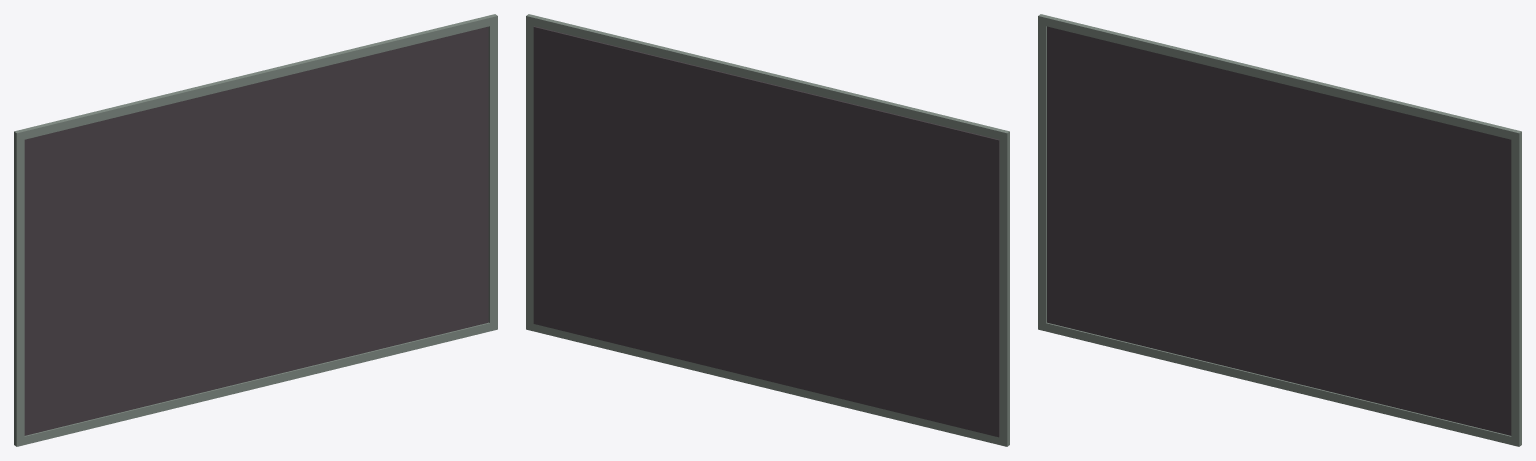
Rendered from SM_blackboard_project.fbx.
3 views of the same model, side by side, from view 1: azimuth 30°, elevation 25°; view 2: azimuth 150°, elevation 25°; view 3: azimuth 330°, elevation 25° (orthographic).
Visible parts, largest first — view 1: blackboard_project; view 2: blackboard_project; view 3: blackboard_project.
Part boxes in pixels (x1,y1,x2,y2): blackboard_project: [14, 14, 497, 446]; blackboard_project: [526, 14, 1009, 446]; blackboard_project: [1038, 14, 1521, 446].
Size of the model in its own units: 264 by 164 by 3.29.
